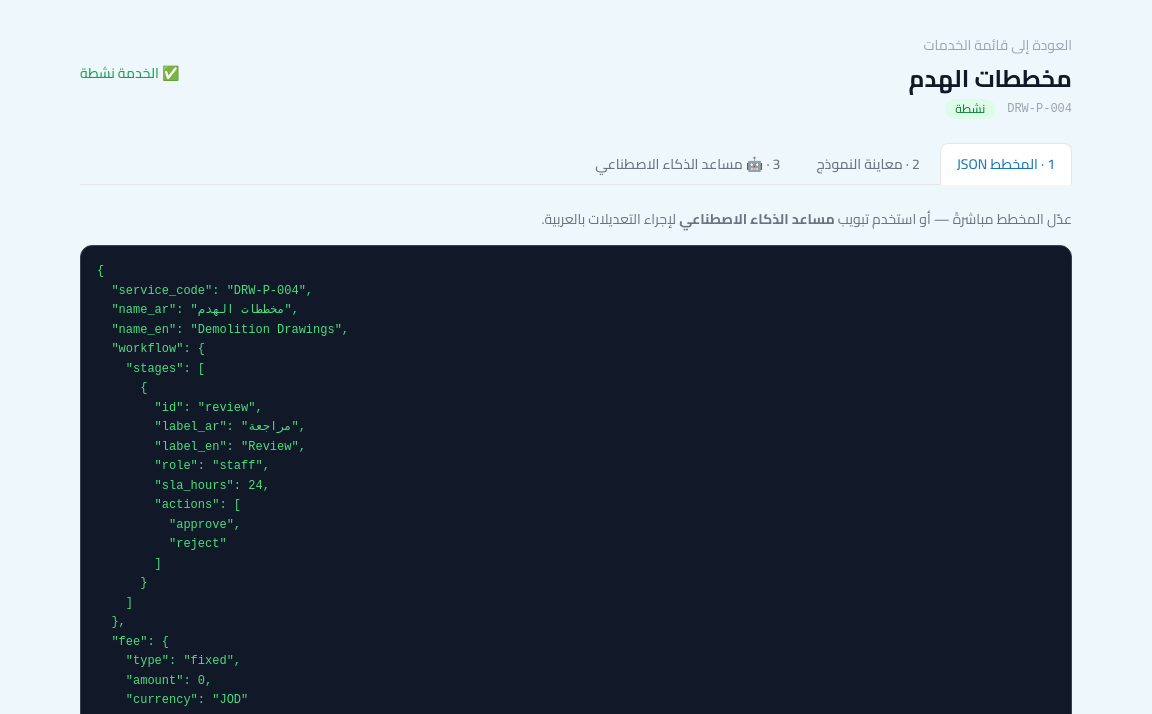
Scenario: EditService — apply-and-save from the AI chat › surfaces a save-side 422 error inline instead of dropping it
Expected: the heading "مخططات الهدم" is shown, [908, 63, 1072, 95]
Click the button "3 · 🤖 مساعد الذكاء الاصطناعي" at (688, 164), box [579, 143, 796, 184]
(page scrolled)
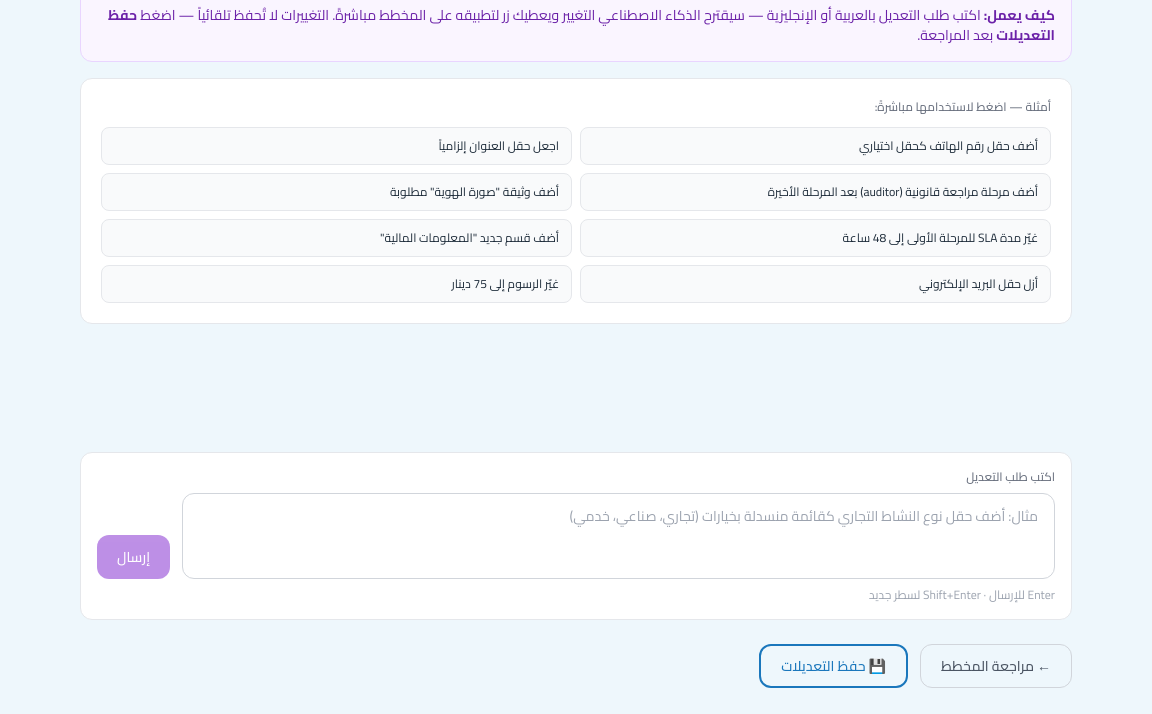
Type "add doc" into the text box at (618, 536), box [182, 493, 1055, 579]
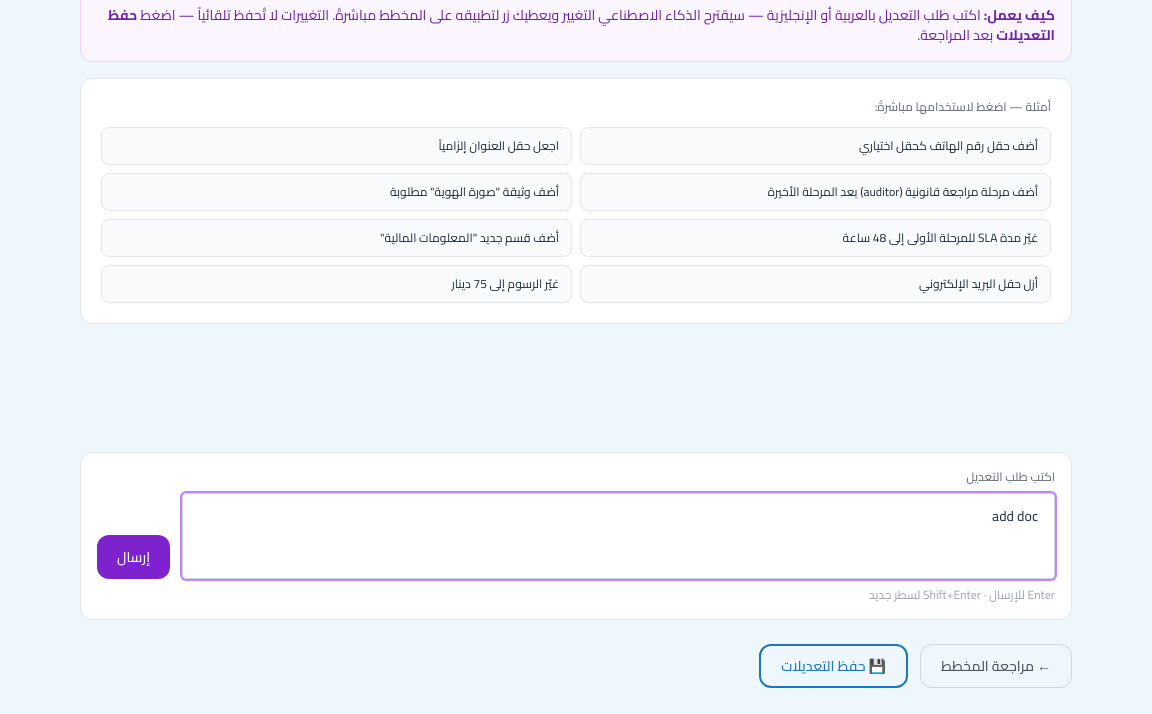
Click the button "إرسال" at (134, 557), box [97, 535, 170, 579]
(page scrolled)
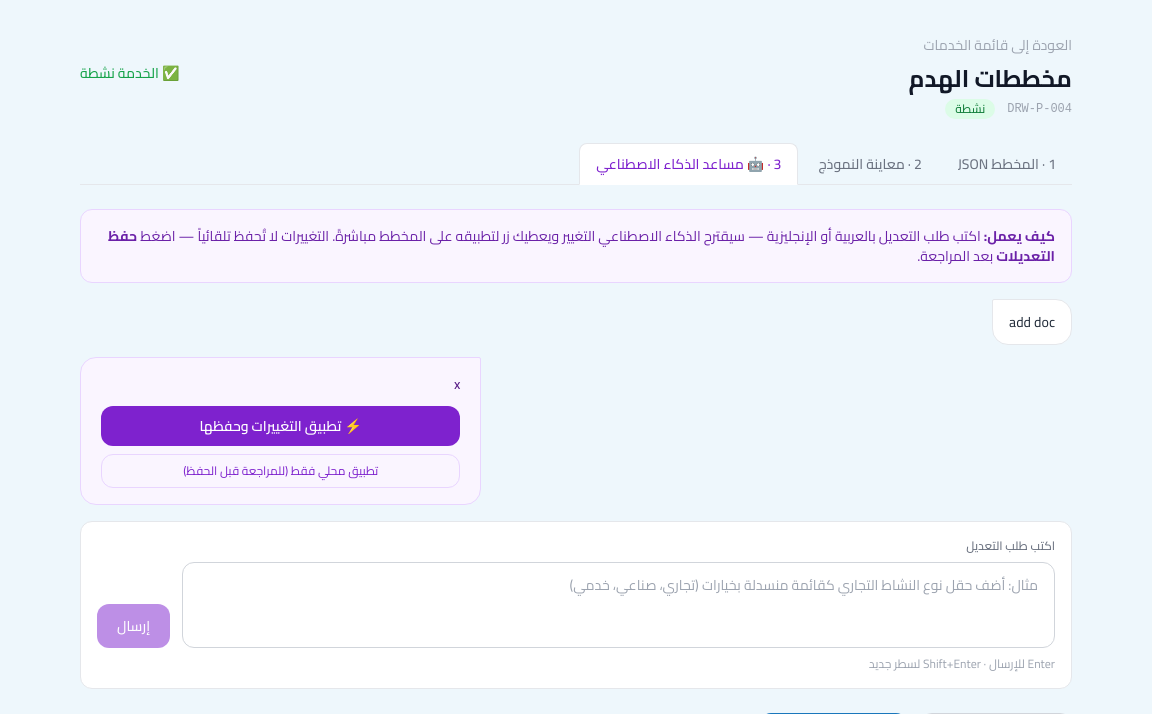
Click the button "⚡ تطبيق التغييرات وحفظها" at (281, 426), box [101, 406, 460, 446]
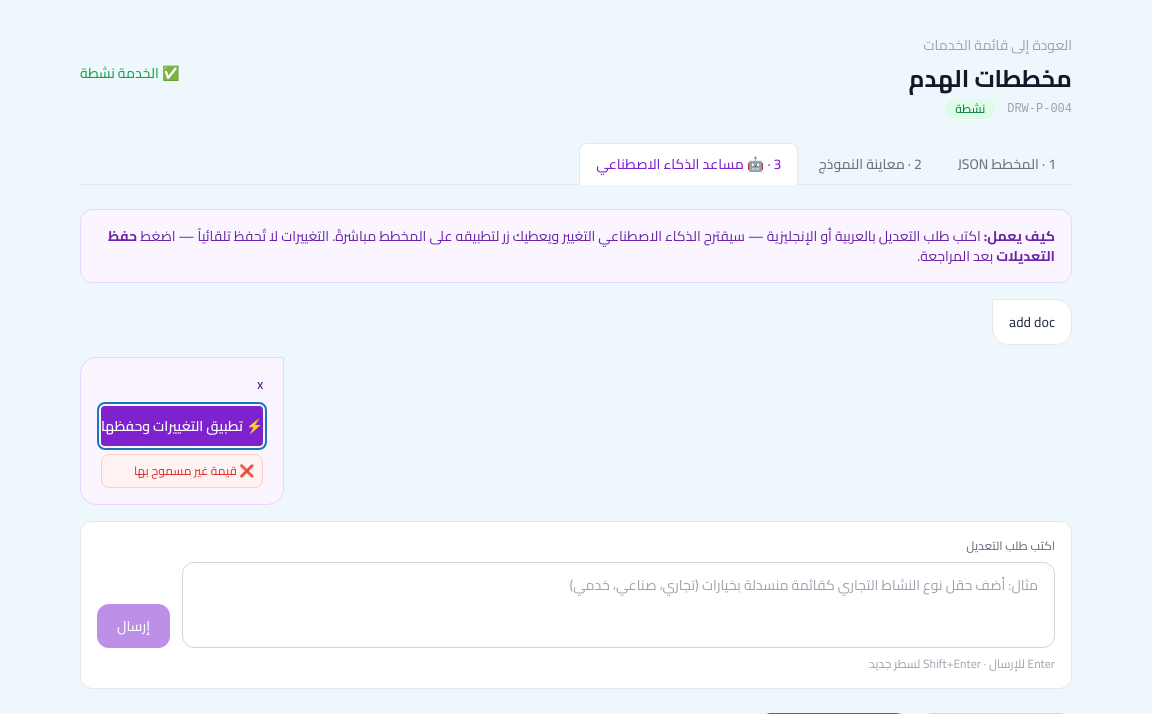
Expected: the button "⚡ تطبيق التغييرات وحفظها" is shown, [101, 406, 263, 446]
Expected: the message shows "قيمة غير مسموح بها", [134, 459, 237, 482]
